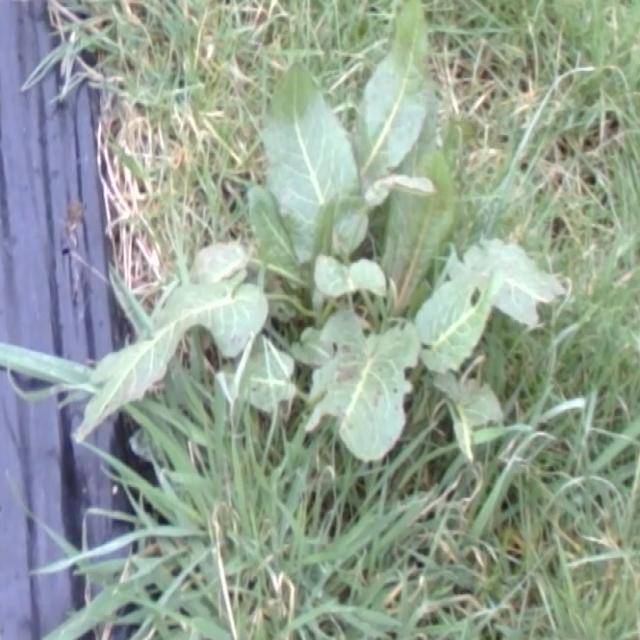organic waste: (28, 5, 550, 479)
